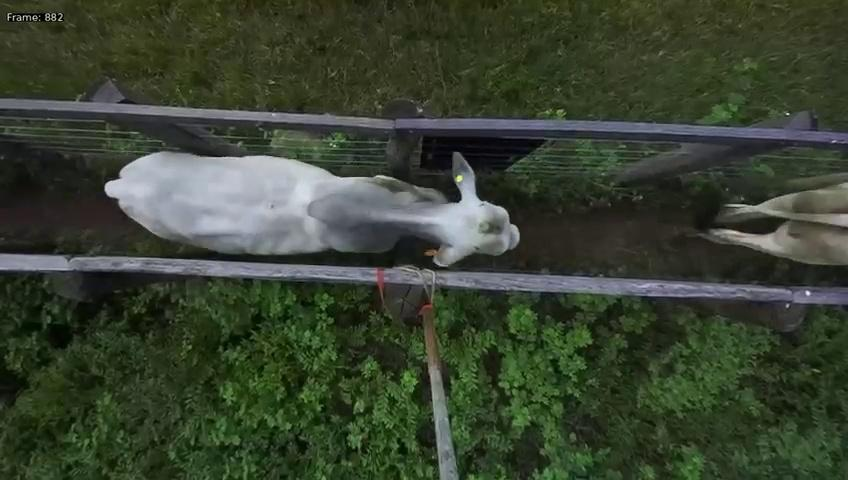cattle: (103, 144, 520, 265)
